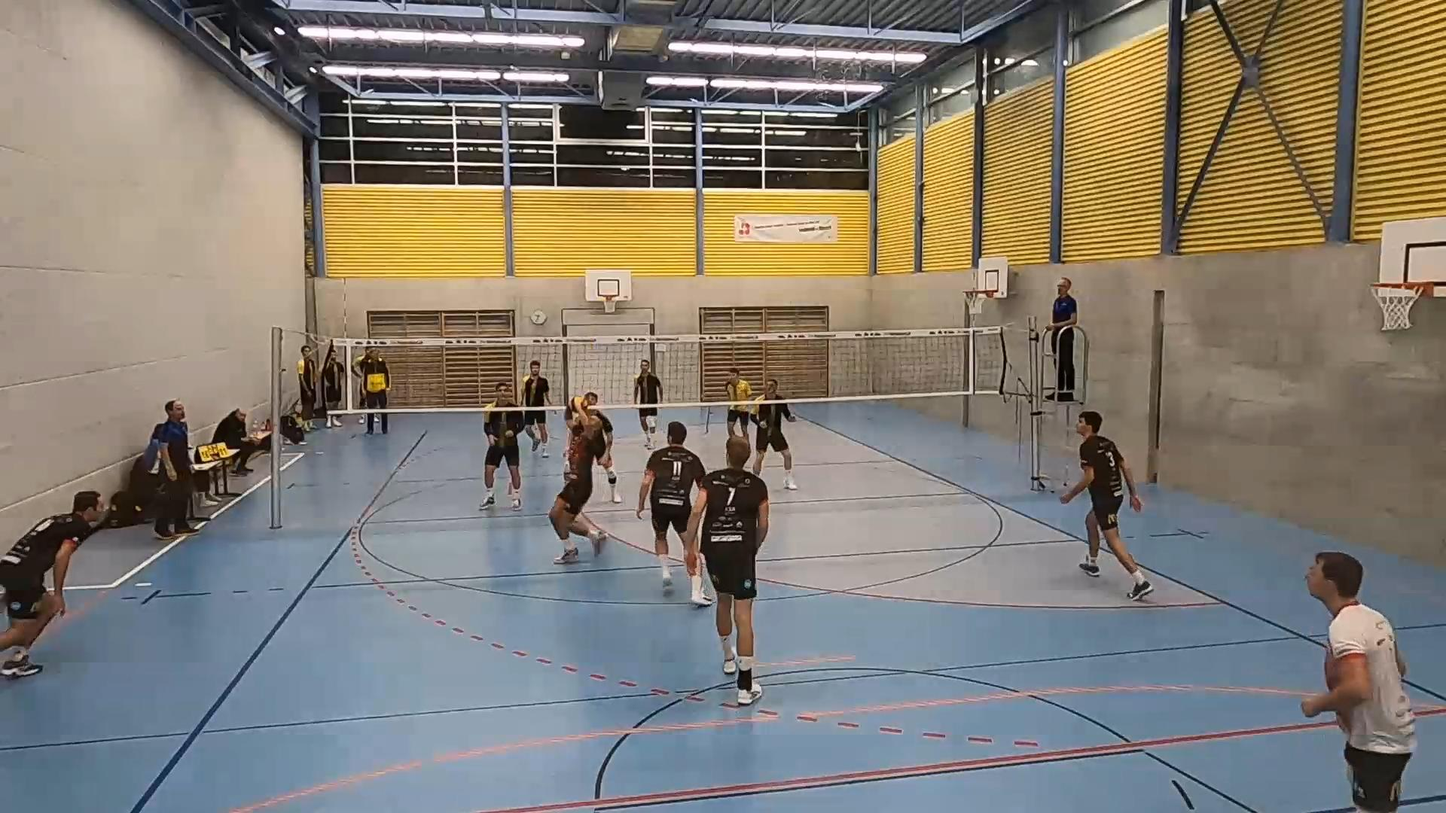Player: (1301, 552, 1415, 812), (685, 437, 769, 705), (0, 491, 104, 678), (1060, 410, 1152, 600), (636, 422, 706, 586), (566, 391, 622, 504), (480, 382, 524, 510), (753, 378, 796, 489), (522, 361, 551, 457), (725, 368, 751, 440), (633, 360, 661, 404)
Set: (545, 394, 614, 574)
